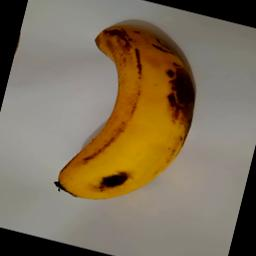Banana Unripe: (55, 16, 212, 221)
